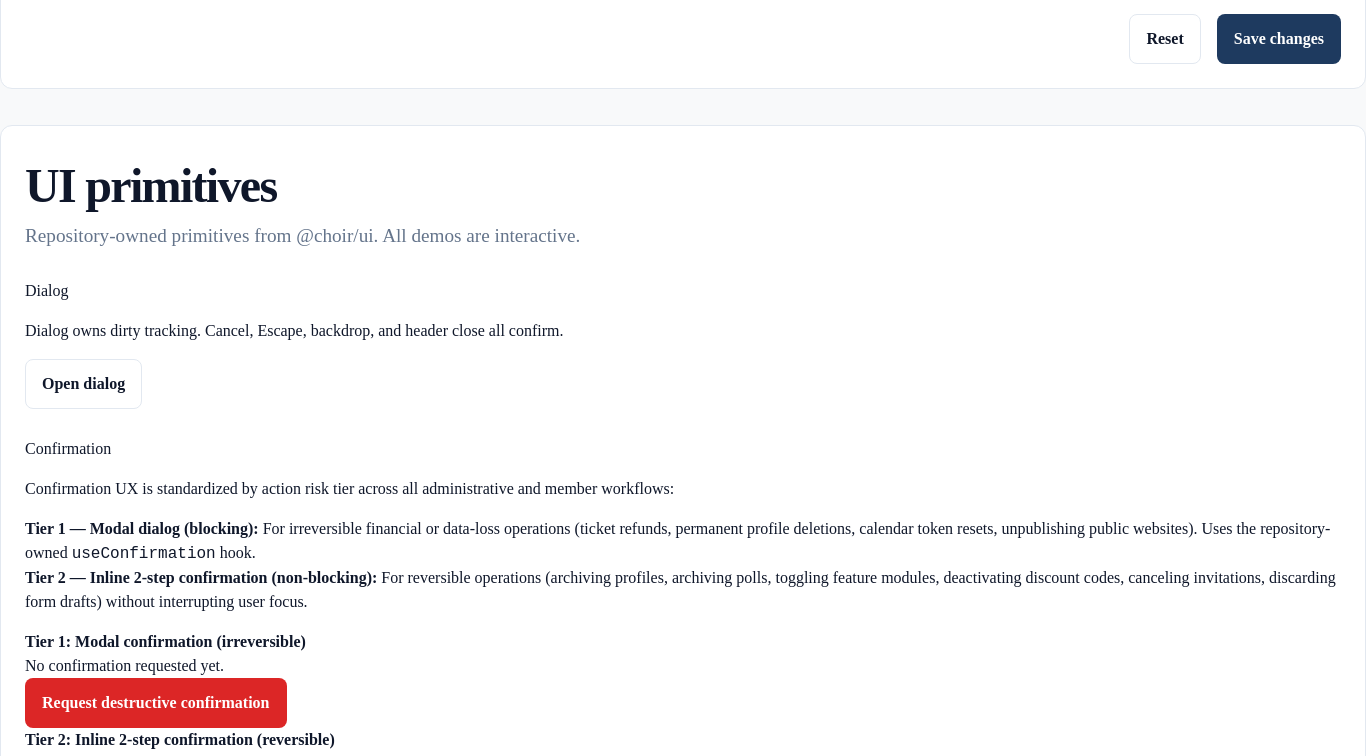
Scenario: DesignSystemView action rows › keeps dialog footer actions specialized with dialog__actions
(page scrolled)
Click the button "Open dialog": click(84, 384) x1=25 y1=359 x2=142 y2=409
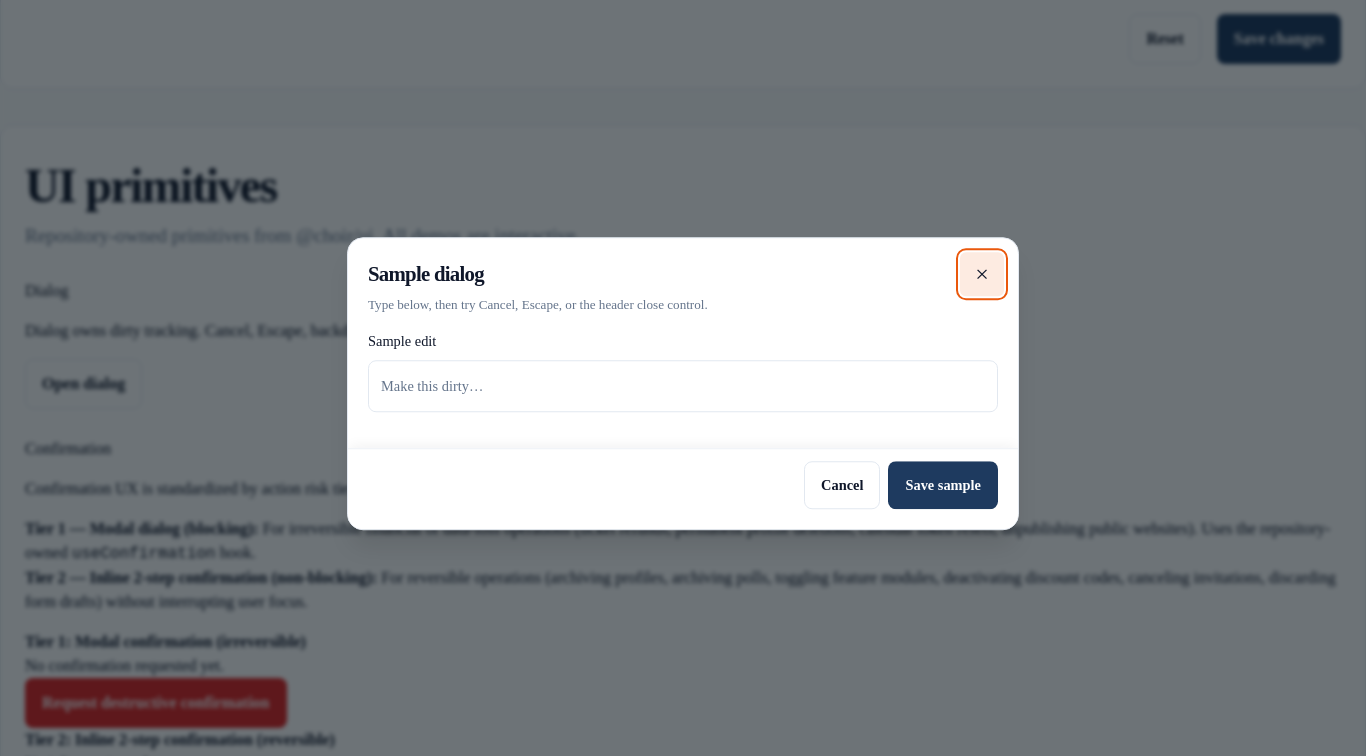
Expected: the element "Save sample" is shown, x1=348 y1=449 x2=1018 y2=530
